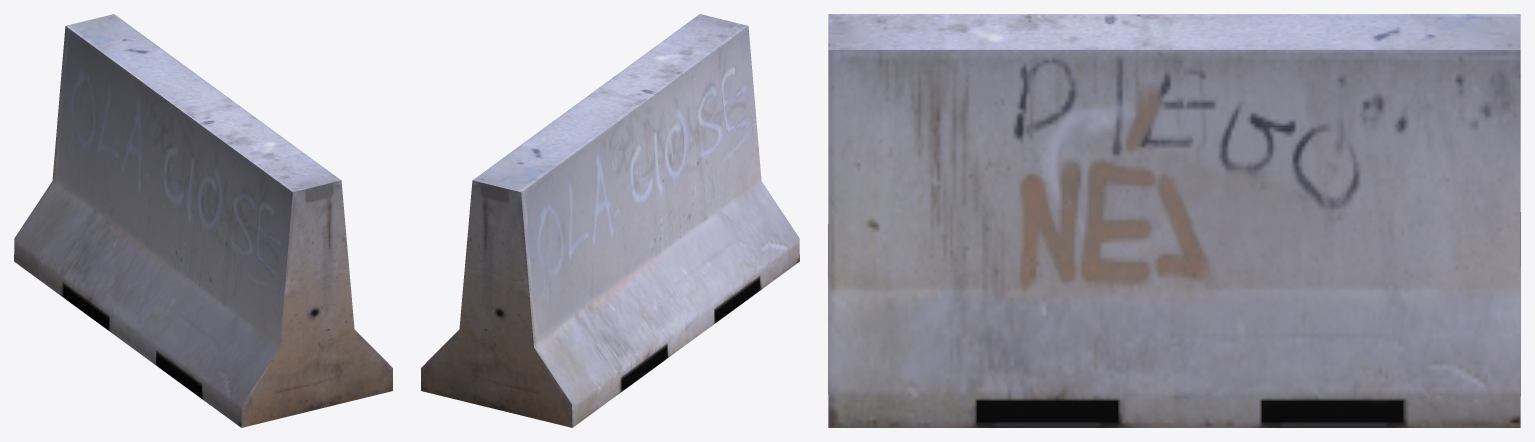
File: barrier1.FBX
The picture shows the model from 3 angles, left to right: view 1: azimuth 30°, elevation 25°; view 2: azimuth 150°, elevation 25°; view 3: azimuth 270°, elevation 25°; orthographic projection. The views are drawn at different scales.
Visible parts, largest first — view 1: prop_barrier1_LOD0; view 2: prop_barrier1_LOD0; view 3: prop_barrier1_LOD0.
Boxes of the visible parts, x1,y1,x2,y2 form: prop_barrier1_LOD0: (14, 14, 392, 427); prop_barrier1_LOD0: (421, 14, 799, 427); prop_barrier1_LOD0: (828, 14, 1520, 427).
Size of what is drawn, in the model's own units: 0.7222 by 1.02 by 1.88.
